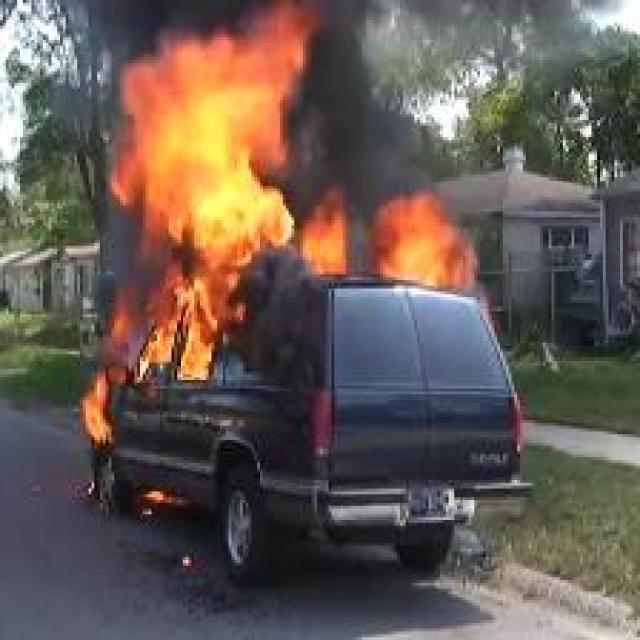Fire: (107, 0, 322, 380), (366, 190, 480, 299), (297, 190, 349, 273), (82, 376, 111, 448)
